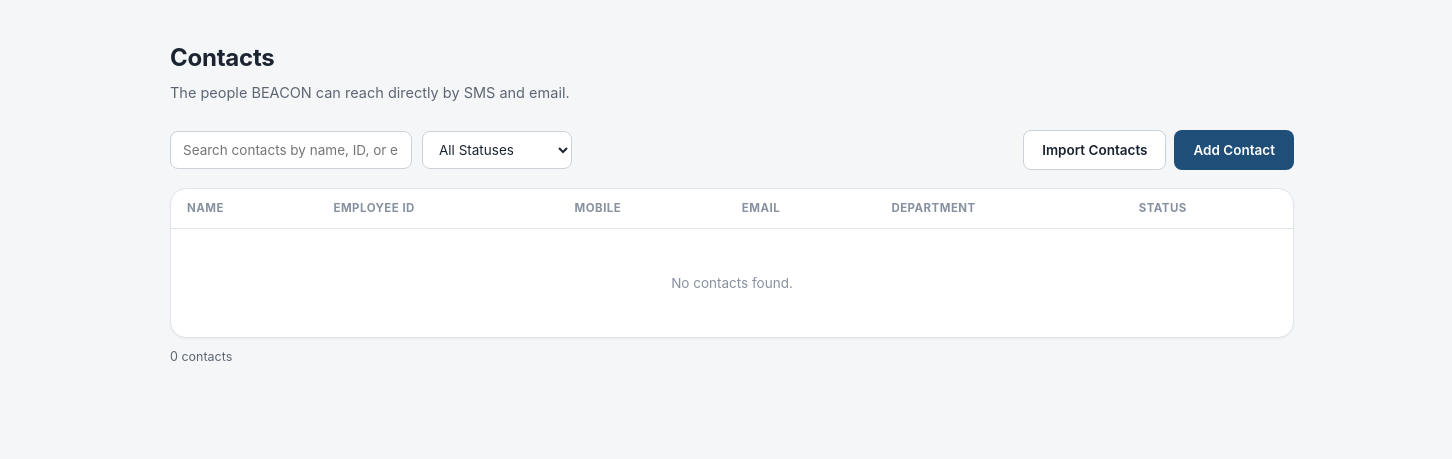
ContactsPage › shows the Import Contacts button and opens the import wizard when granted contacts.import
Click the button "Import Contacts".
click(1095, 150)  # box [1023,130,1166,170]
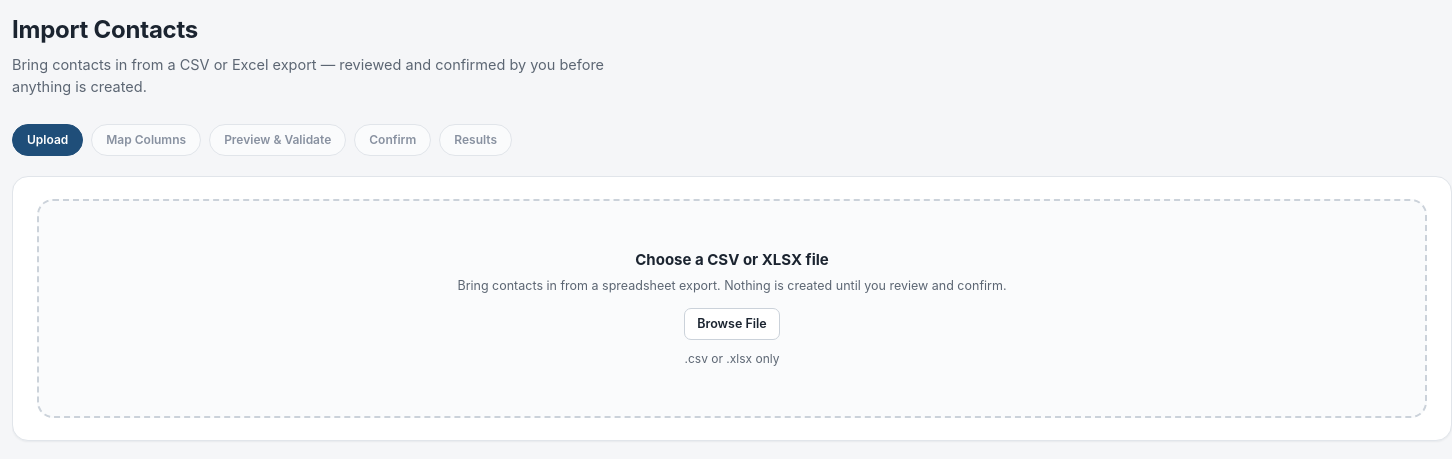
Now the heading "Import Contacts" is shown, box [12,15,198,44]
